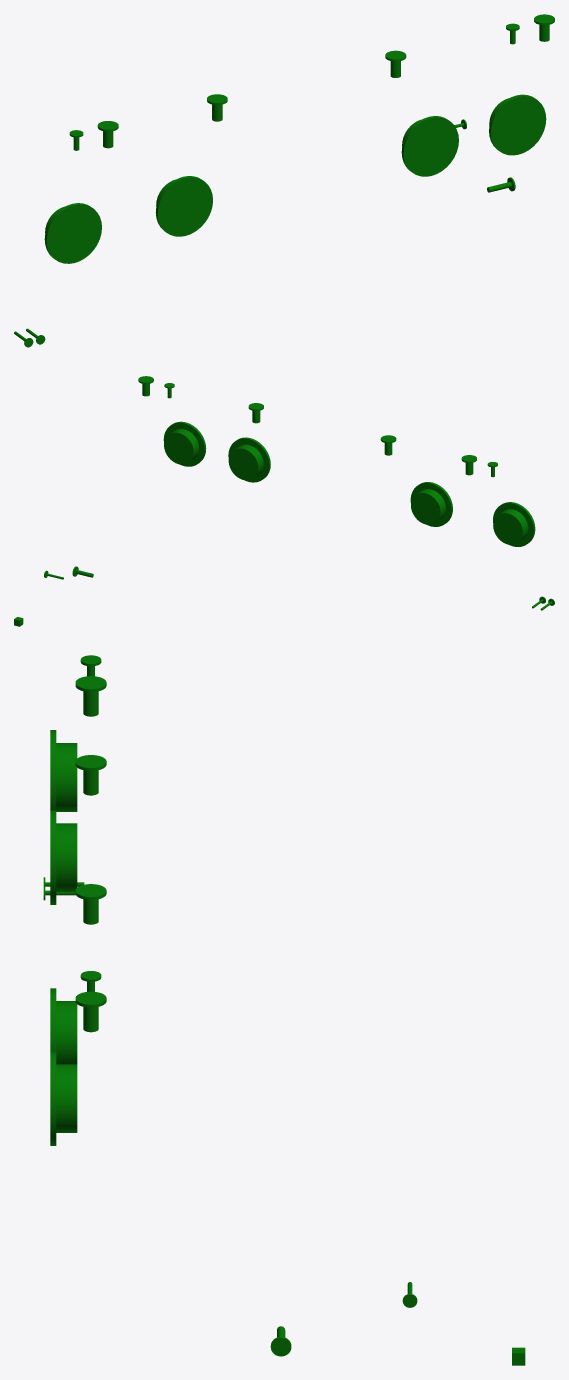
Rendered from Image-1710907725950-2281074288288_42-XX50.fbx.
3 views of the same model, one above another, from view 1: azimuth 30°, elevation 25°; view 2: azimuth 150°, elevation 25°; view 3: azimuth 270°, elevation 25° (orthographic). The views are drawn at different scales.
Visible parts, largest first — view 1: /42-TB53/MANWAY, /42-TB56/MANWAY, /42-TB52/MANWAY, /42-TB55/MANWAY; view 2: /42-TB55/MANWAY, /42-TB52/MANWAY, /42-TB53/MANWAY, /42-TB56/MANWAY; view 3: /42-TB53/MANWAY, /42-TB52/MANWAY, /42-TB56/MANWAY, /42-TB55/MANWAY.
Part boxes in pixels (x1,y1,x2,y2): /42-TB53/MANWAY: (155, 176, 212, 236); /42-TB56/MANWAY: (44, 203, 101, 263); /42-TB52/MANWAY: (489, 94, 546, 155); /42-TB55/MANWAY: (401, 116, 458, 176); /42-TB55/MANWAY: (228, 437, 270, 482); /42-TB52/MANWAY: (163, 421, 206, 466); /42-TB53/MANWAY: (410, 482, 452, 526); /42-TB56/MANWAY: (493, 502, 535, 546); /42-TB53/MANWAY: (50, 810, 77, 904); /42-TB52/MANWAY: (50, 1051, 77, 1145); /42-TB56/MANWAY: (50, 730, 77, 811); /42-TB55/MANWAY: (50, 988, 77, 1064).
Size of the model in its own units: 7.15 by 3.55 by 2.8.
